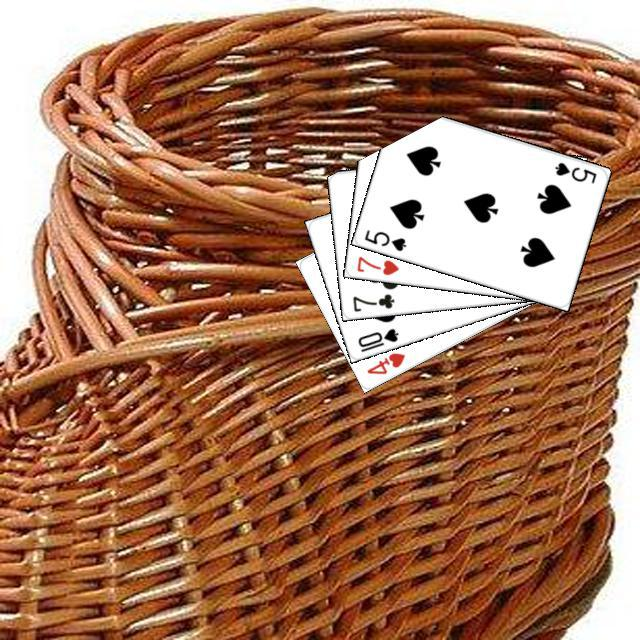10s: (353, 323, 400, 354)
4h: (362, 348, 407, 376)
5s: (359, 225, 408, 253), (550, 157, 598, 185)
7c: (348, 289, 396, 313)
7h: (352, 251, 400, 277)
